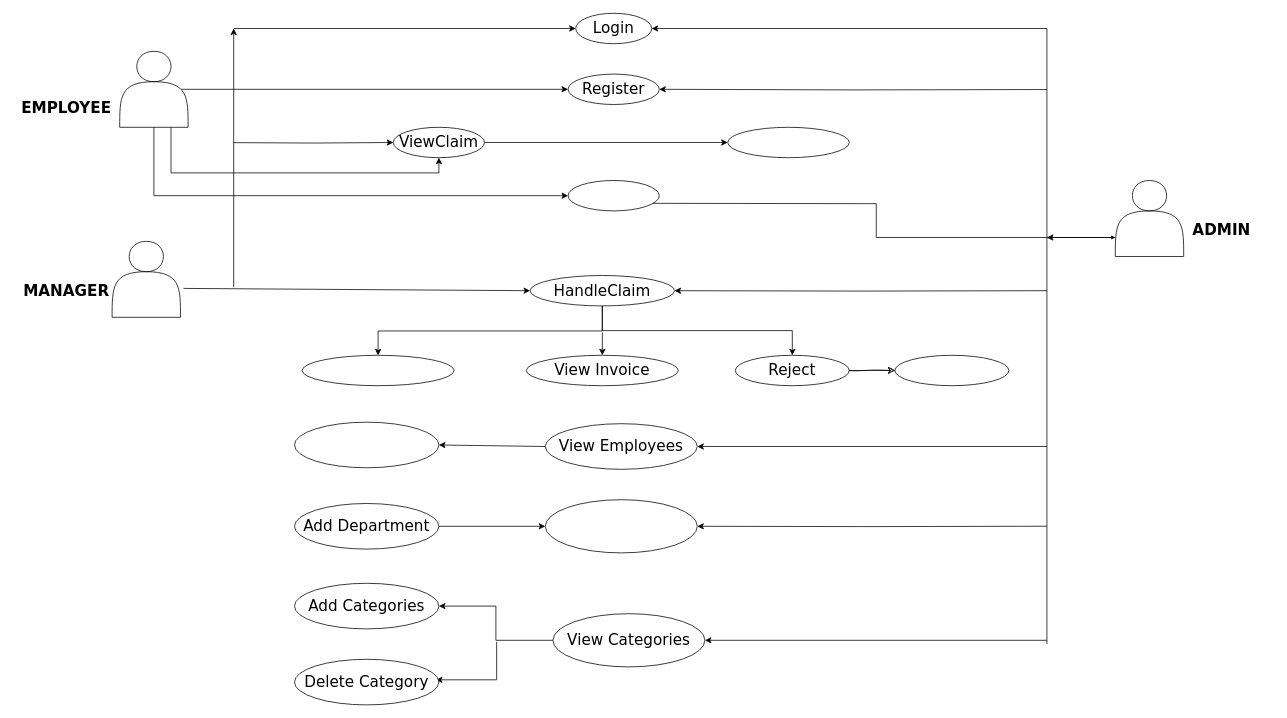
This 1287x718 diagram has some shape labels left out. Here are the shapes that lost their labels. From the top down, the centre of each, then its label:
At [788,142]: "ViewRequest".
At [613,195]: "LogOut".
At [377,370]: "Accept".
At [951,370]: "Comment".
At [366,444]: "Assign Employee".
At [621,526]: "View Department".
